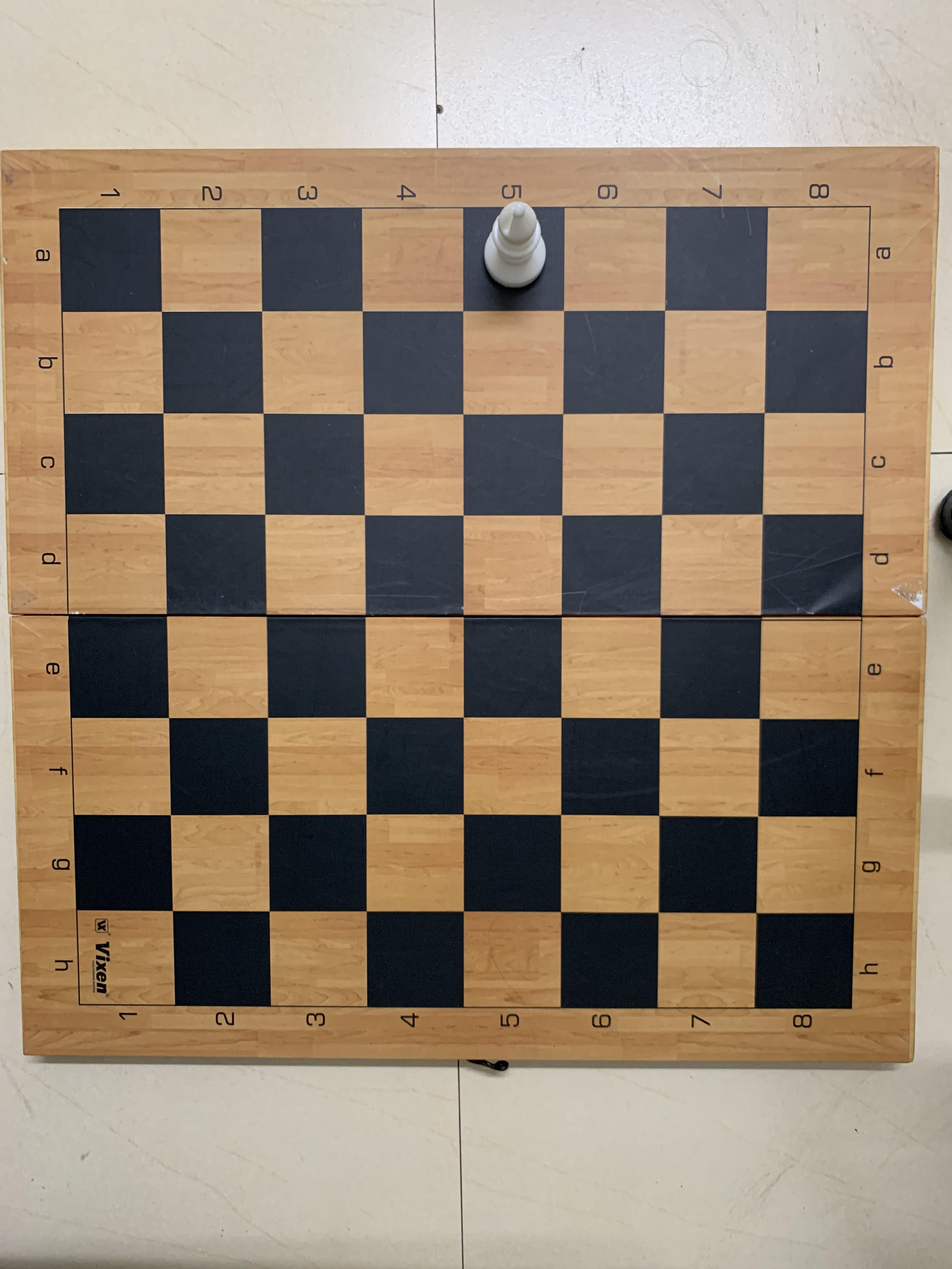white_bishop: (463, 203, 565, 314)
